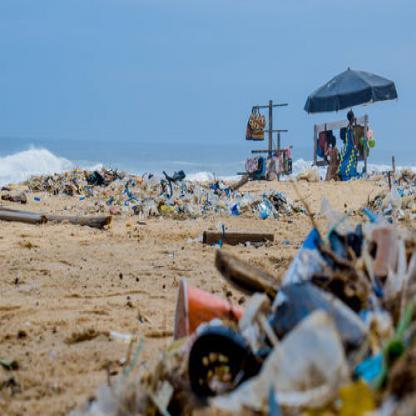Plastic: (186, 310, 350, 415), (167, 279, 241, 339)
